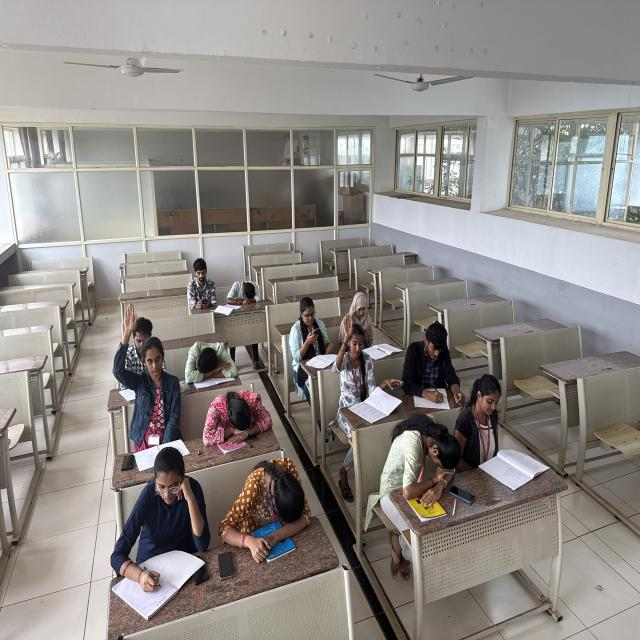Hand Rising: (74, 290, 179, 437), (329, 314, 386, 402)
Sleeping: (446, 368, 566, 489), (218, 454, 330, 540), (190, 382, 303, 440), (382, 407, 458, 490), (186, 329, 262, 397), (220, 253, 265, 310)
Using Phone: (276, 284, 334, 362), (336, 264, 376, 346), (184, 253, 219, 314)
Writing: (96, 454, 196, 608), (402, 282, 476, 417)
